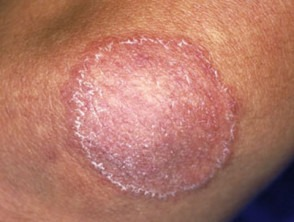Ringworm: (65, 23, 248, 208)
